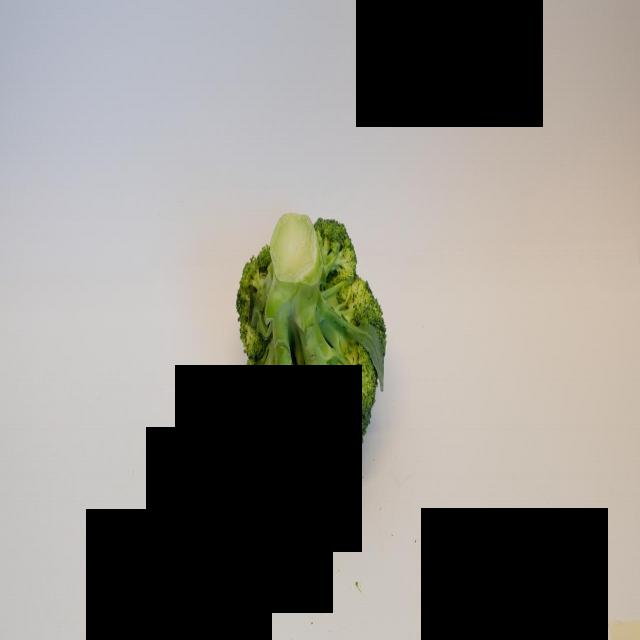broccoli: (233, 210, 387, 473)
